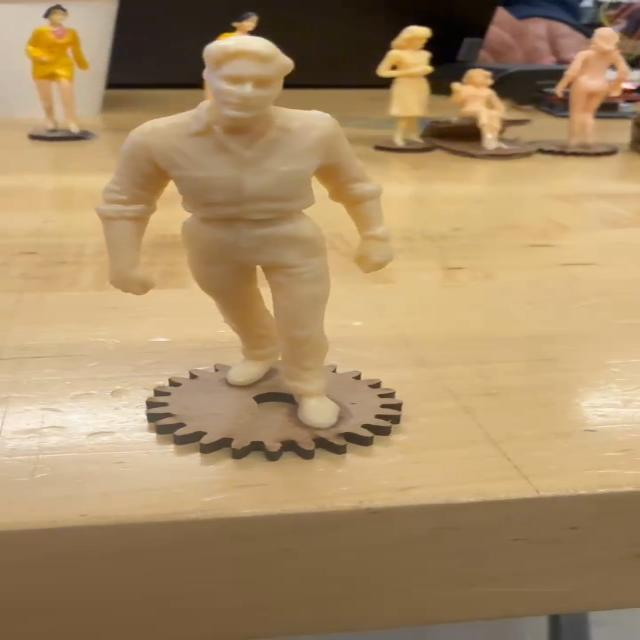Unauthorized: (96, 14, 386, 434)
